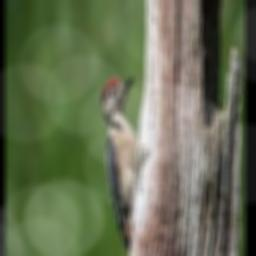Woodpecker: (101, 76, 139, 253)
